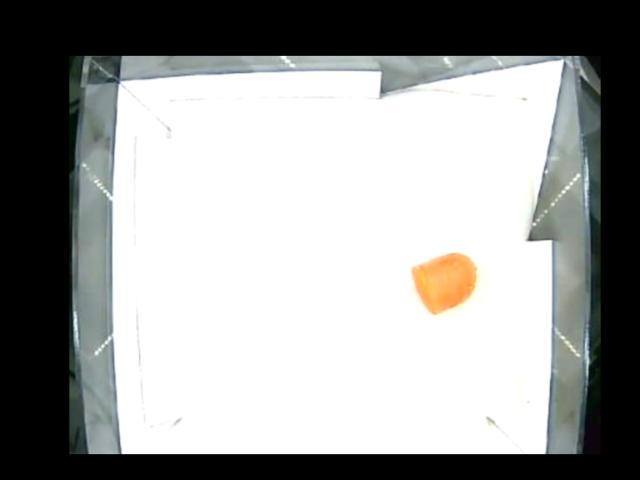Carrot: (410, 253, 477, 315)
